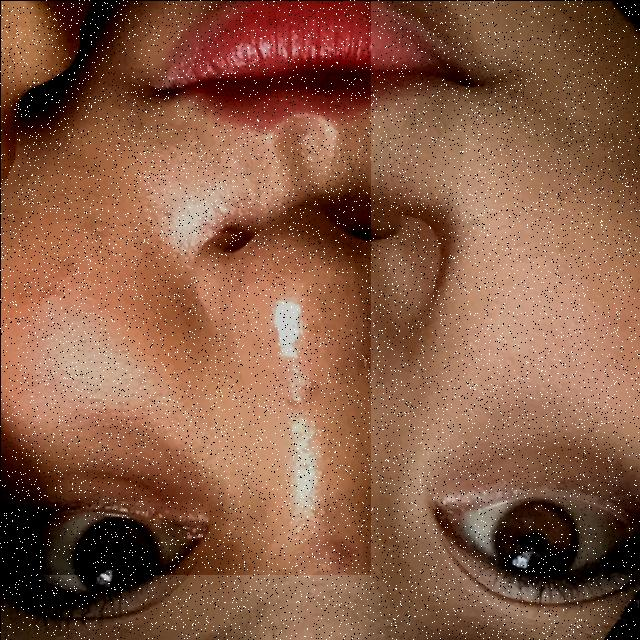telpon: (0, 0, 370, 574)
